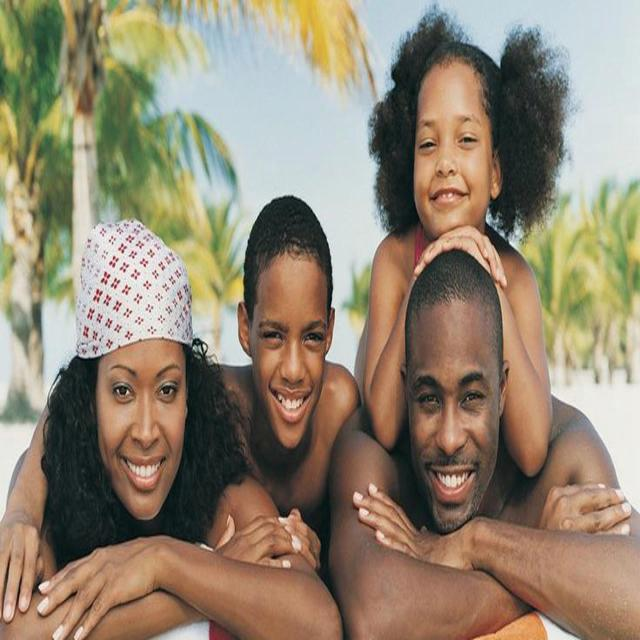adult: (0, 213, 344, 640), (330, 248, 638, 640)
child: (362, 12, 566, 483), (202, 193, 358, 537)
